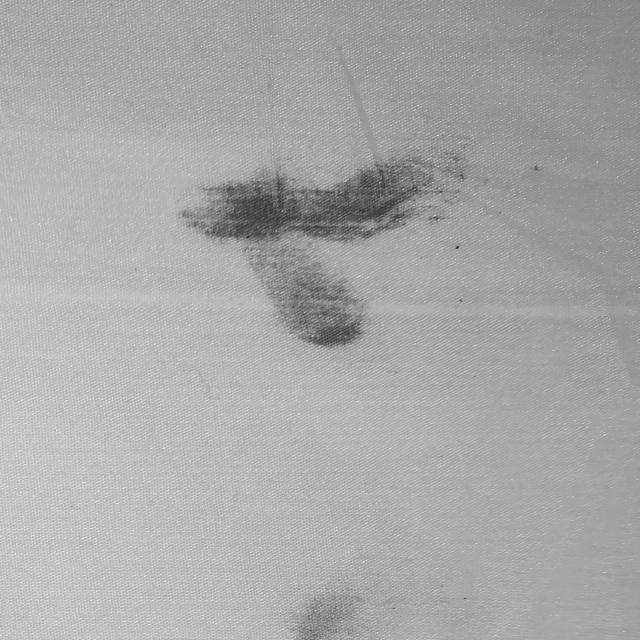Stain: (181, 154, 463, 346), (293, 593, 370, 640)
